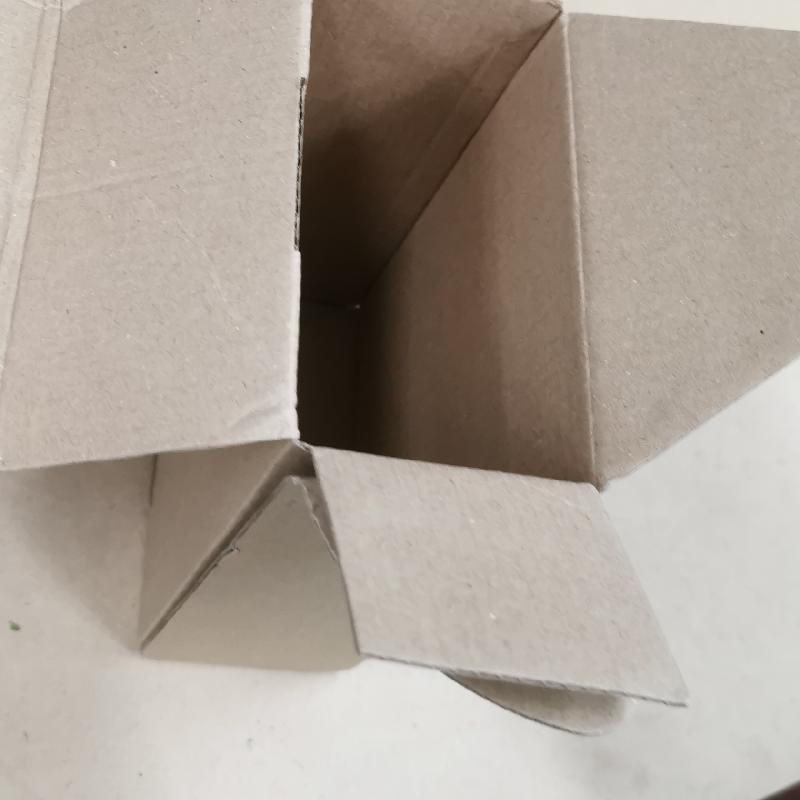boxes: (3, 0, 799, 711)
